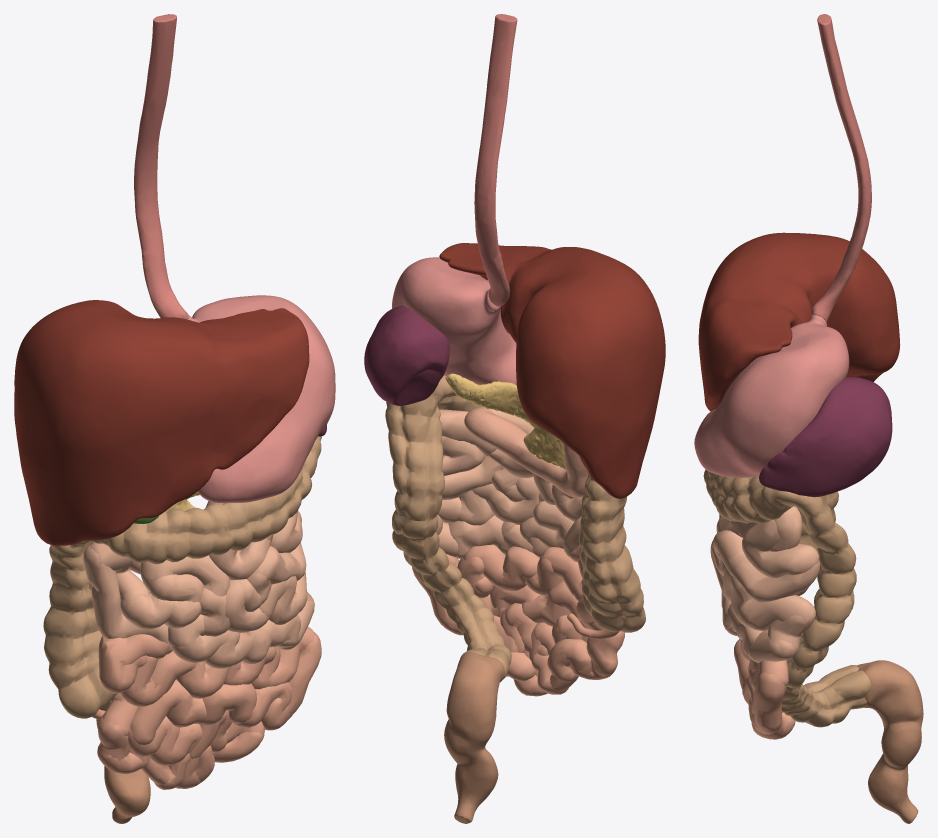
3 views of the same model, side by side, from view 1: azimuth 30°, elevation 25°; view 2: azimuth 150°, elevation 25°; view 3: azimuth 270°, elevation 25° (orthographic). The views are drawn at different scales.
Visible parts, largest first — view 1: s8, s4, s3, s6, s1, s0, s7; view 2: s8, s6, s4, s3, s1, s7, s11, s0, s2, s10; view 3: s8, s6, s1, s3, s11, s7, s0, s4.
Boxes of the visible parts, <box> form: s8: <box>14,300,309,545</box>; s4: <box>97,626,321,789</box>; s3: <box>83,510,314,668</box>; s6: <box>43,436,321,718</box>; s1: <box>188,295,335,503</box>; s0: <box>134,14,189,319</box>; s7: <box>96,701,150,823</box>; s8: <box>439,243,665,498</box>; s6: <box>385,375,645,679</box>; s4: <box>412,544,633,696</box>; s3: <box>436,408,627,558</box>; s1: <box>392,257,516,384</box>; s7: <box>444,652,504,823</box>; s11: <box>364,305,449,405</box>; s0: <box>474,14,517,307</box>; s2: <box>464,406,587,497</box>; s10: <box>445,373,565,469</box>; s8: <box>698,232,900,411</box>; s6: <box>703,469,870,727</box>; s1: <box>694,315,849,477</box>; s3: <box>710,506,820,662</box>; s11: <box>759,376,892,497</box>; s7: <box>857,660,923,823</box>; s0: <box>811,14,871,322</box>; s4: <box>734,636,795,739</box>.
Size of the model in its own units: 234 by 660 by 171.
